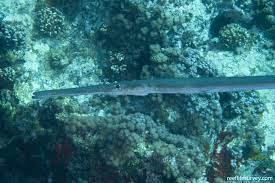Fistularia commersonii: (19, 68, 275, 107)
